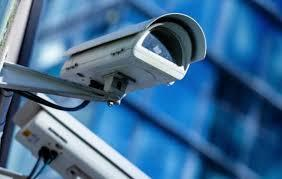tutu: (48, 8, 214, 103)
